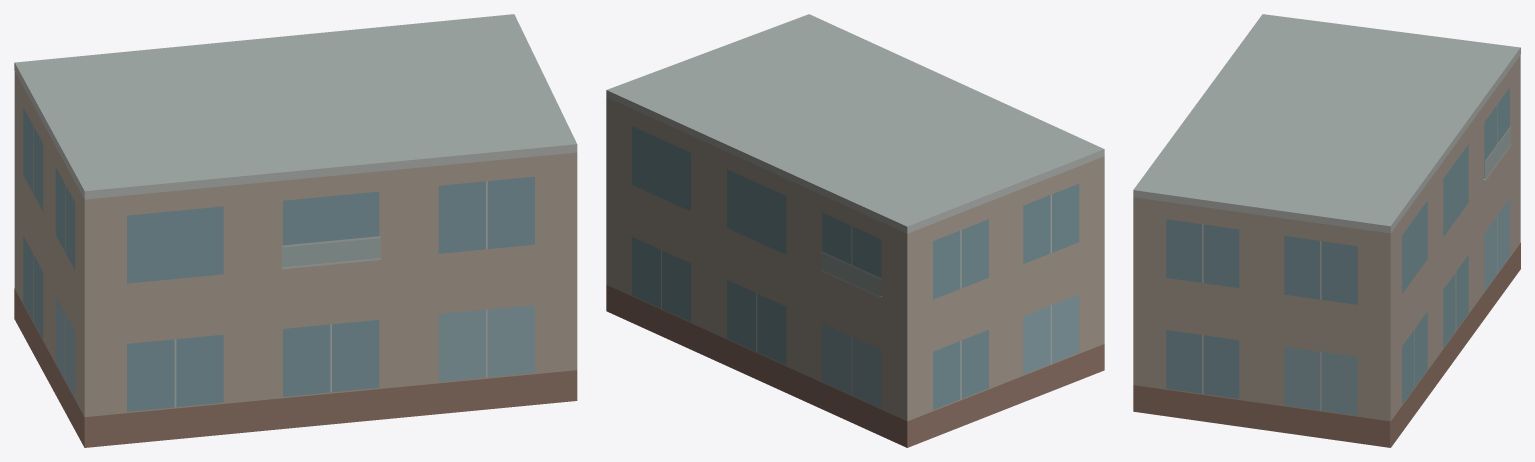
File: survey-upis-32658830.glb
3 renders of one model, left to right at view 1: azimuth 30°, elevation 25°; view 2: azimuth 150°, elevation 25°; view 3: azimuth 270°, elevation 25°, orthographic. The views are drawn at different scales.
Parts seen in each view (by area): view 1: survey-upis-32658830.tmp; view 2: survey-upis-32658830.tmp; view 3: survey-upis-32658830.tmp.
Part boxes in pixels (x1,y1,x2,y2): survey-upis-32658830.tmp: (14, 14, 577, 447); survey-upis-32658830.tmp: (606, 14, 1104, 447); survey-upis-32658830.tmp: (1133, 14, 1520, 447).
Size of the model in its own units: 15.63 by 7.6 by 12.06.
